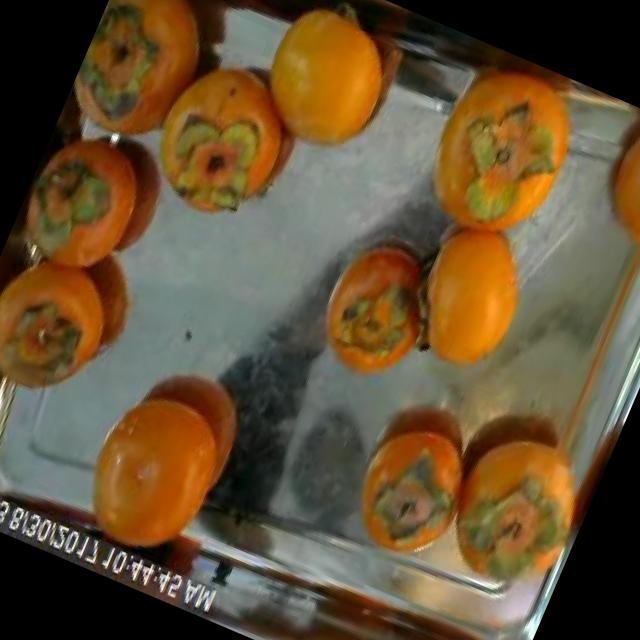Fruit: (42, 330, 264, 593), (382, 31, 604, 273), (372, 175, 566, 408), (312, 356, 506, 586), (220, 0, 434, 195), (282, 199, 472, 416), (51, 0, 256, 185), (134, 62, 323, 258)
